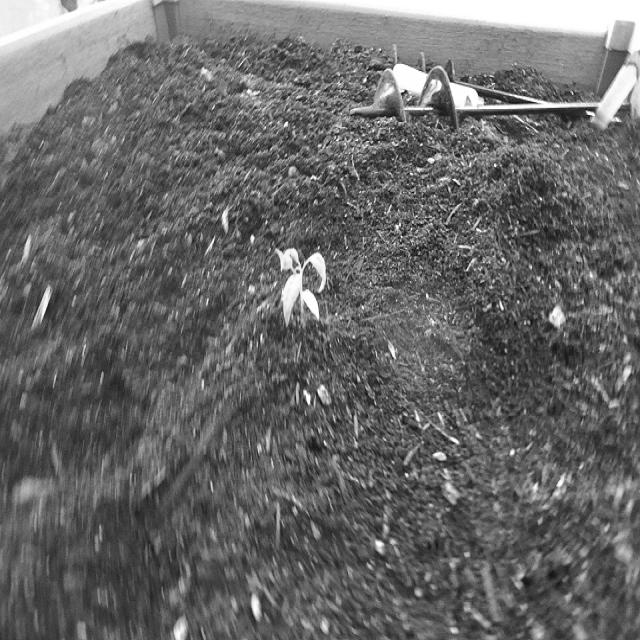Healthy: (272, 240, 330, 336)
